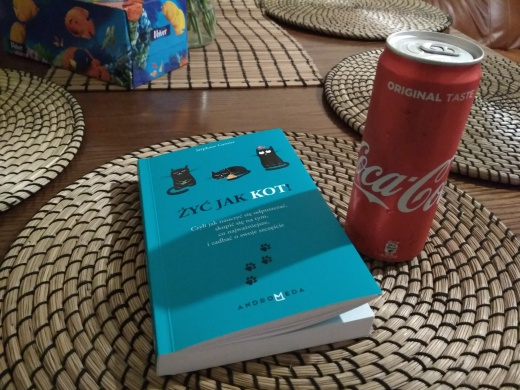cola: (338, 26, 486, 285)
